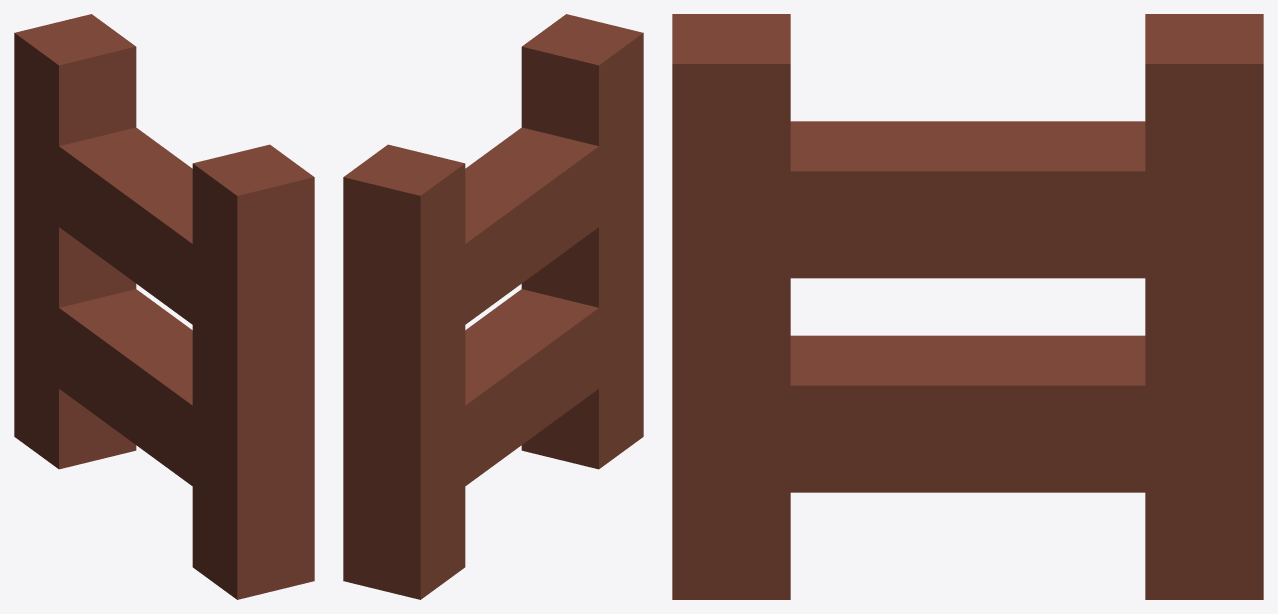
File: Fence.obj
The picture shows the model from 3 angles, left to right: view 1: azimuth 30°, elevation 25°; view 2: azimuth 150°, elevation 25°; view 3: azimuth 270°, elevation 25°; orthographic projection. The views are drawn at different scales.
Visible parts, largest first — view 1: Model; view 2: Model; view 3: Model.
Part boxes in pixels (x1,y1,x2,y2): Model: [14, 14, 314, 599]; Model: [343, 14, 643, 599]; Model: [672, 14, 1263, 599].
Bounding box in the file's own units: 6.4 × 32 × 32.
